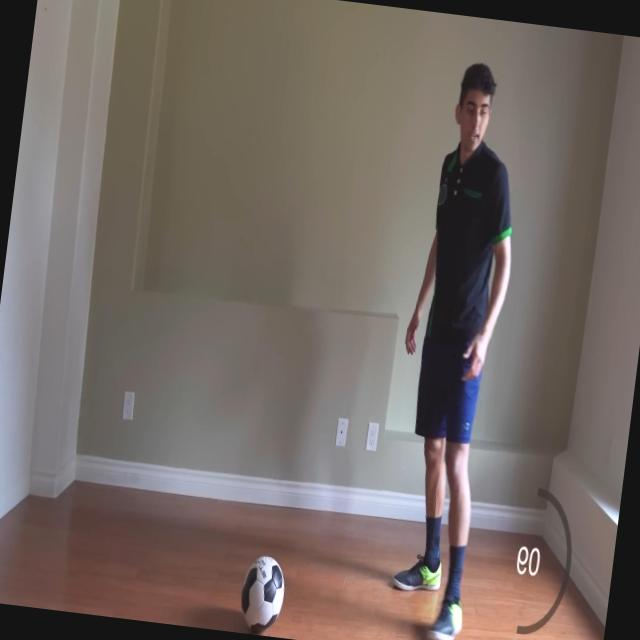Soccer Ball: (236, 552, 287, 638)
